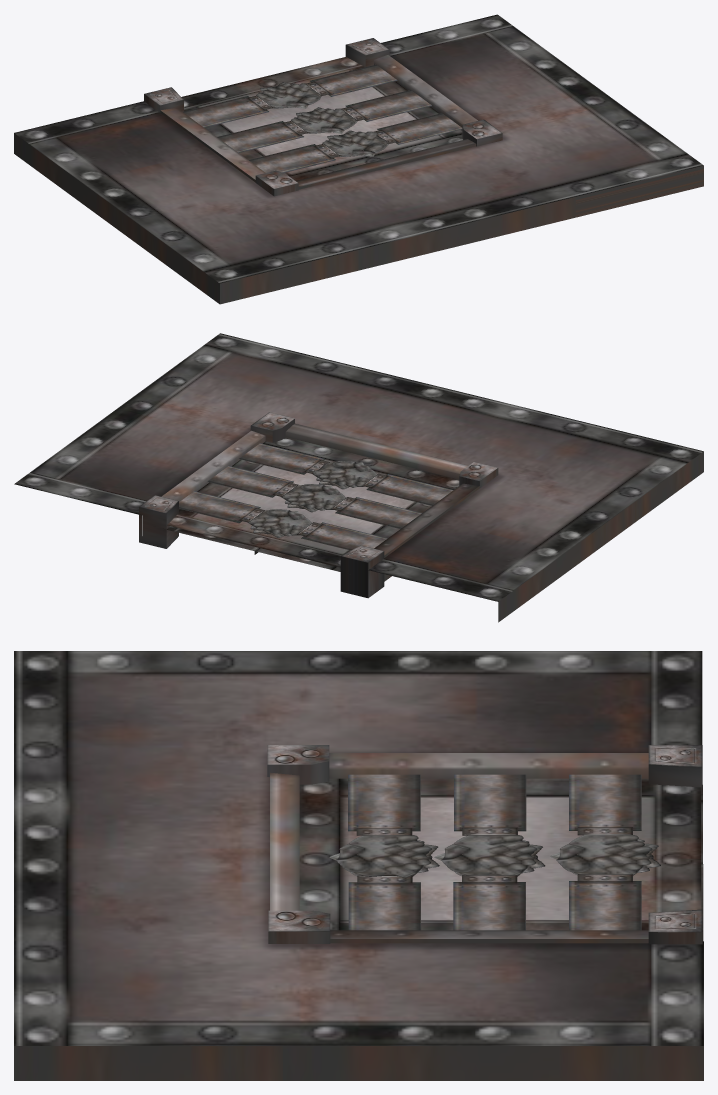
The model's file is cog_door_handshake.glb.
The picture shows the model from 3 angles, top to bottom: view 1: azimuth 30°, elevation 25°; view 2: azimuth 150°, elevation 25°; view 3: azimuth 270°, elevation 25°; orthographic projection. The views are drawn at different scales.
Visible parts, largest first — view 1: pocket, doorframe_collsion, doorbottom1, Back_pCube48 (×3), doortop1, Back_pCube46 (×3), Back_pCube50 (×2), Back_pCube47, pCube31, group2, group3, group1; view 2: pocket, doorframe_collsion, doorbottom1, Back_pCube48 (×3), doortop1, Back_pCube46 (×3), Back_pCube50 (×2), group1, pCube31, Back_pCube47, group3, group2 (+1 smaller); view 3: pocket, doorframe_collsion, doorbottom1, Back_pCube48 (×3), doortop1, Back_pCube46 (×3), Back_pCube50 (×2), Back_pCube47, group1, group2, group3, pCube31.
Boxes of the visible parts, left/top/right/bottom form: pocket: left=14, top=14, right=703, bottom=304; doorframe_collsion: left=160, top=55, right=477, bottom=189; doorbottom1: left=181, top=57, right=407, bottom=136; Back_pCube48 (×3): left=182, top=96, right=462, bottom=172; doortop1: left=239, top=106, right=462, bottom=180; Back_pCube46 (×3): left=256, top=83, right=387, bottom=155; Back_pCube50 (×2): left=310, top=64, right=431, bottom=121; Back_pCube47: left=217, top=121, right=303, bottom=152; pCube31: left=345, top=38, right=389, bottom=66; group2: left=255, top=170, right=298, bottom=196; group3: left=462, top=119, right=502, bottom=146; group1: left=144, top=87, right=183, bottom=112; pocket: left=14, top=333, right=703, bottom=622; doorframe_collsion: left=161, top=423, right=479, bottom=581; doorbottom1: left=167, top=482, right=399, bottom=567; Back_pCube48 (×3): left=239, top=443, right=453, bottom=550; doortop1: left=232, top=437, right=459, bottom=512; Back_pCube46 (×3): left=248, top=461, right=376, bottom=534; Back_pCube50 (×2): left=179, top=466, right=293, bottom=522; group1: left=340, top=545, right=384, bottom=598; pCube31: left=139, top=495, right=178, bottom=548; Back_pCube47: left=335, top=497, right=421, bottom=528; group3: left=250, top=412, right=294, bottom=442; group2: left=459, top=462, right=498, bottom=488; pocket: left=14, top=651, right=703, bottom=1080; doorframe_collsion: left=270, top=753, right=648, bottom=943; doorbottom1: left=517, top=778, right=701, bottom=930; Back_pCube48 (×3): left=348, top=774, right=641, bottom=930; doortop1: left=299, top=778, right=466, bottom=930; Back_pCube46 (×3): left=336, top=835, right=652, bottom=877; Back_pCube50 (×2): left=453, top=881, right=641, bottom=930; Back_pCube47: left=454, top=774, right=526, bottom=830; group1: left=648, top=745, right=702, bottom=793; group2: left=267, top=745, right=329, bottom=784; group3: left=268, top=910, right=330, bottom=943; pCube31: left=648, top=909, right=702, bottom=944.
Bounding box in the file's own units: 32.67 × 2.29 × 24.12.
Materials: 8 (7 with a texture image).
